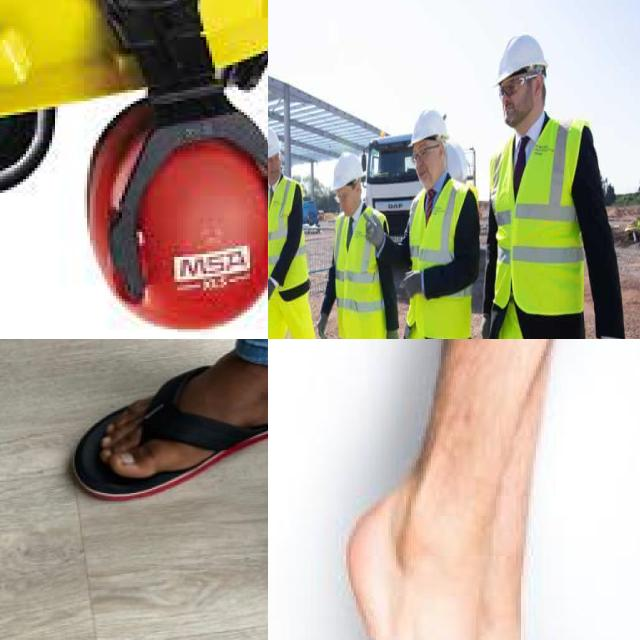Barefoots: (345, 489, 514, 640)
Ear-protection: (61, 0, 268, 321)
Sandals: (70, 345, 268, 501)
face_nomask: (498, 64, 534, 132), (412, 139, 442, 195), (338, 179, 356, 217), (268, 154, 286, 187)
glasses: (492, 72, 530, 100), (410, 146, 430, 170)
hand_glove: (398, 268, 431, 301), (365, 216, 389, 259), (314, 307, 333, 339), (268, 279, 280, 303), (387, 326, 401, 339)
head_helmet: (494, 33, 548, 86), (409, 108, 450, 146), (331, 152, 364, 191), (268, 126, 281, 159)
person: (476, 40, 633, 339), (384, 119, 499, 339), (306, 153, 403, 339), (268, 124, 334, 339)
vest: (491, 120, 588, 325), (406, 178, 473, 339), (332, 209, 393, 339), (268, 179, 310, 293)
